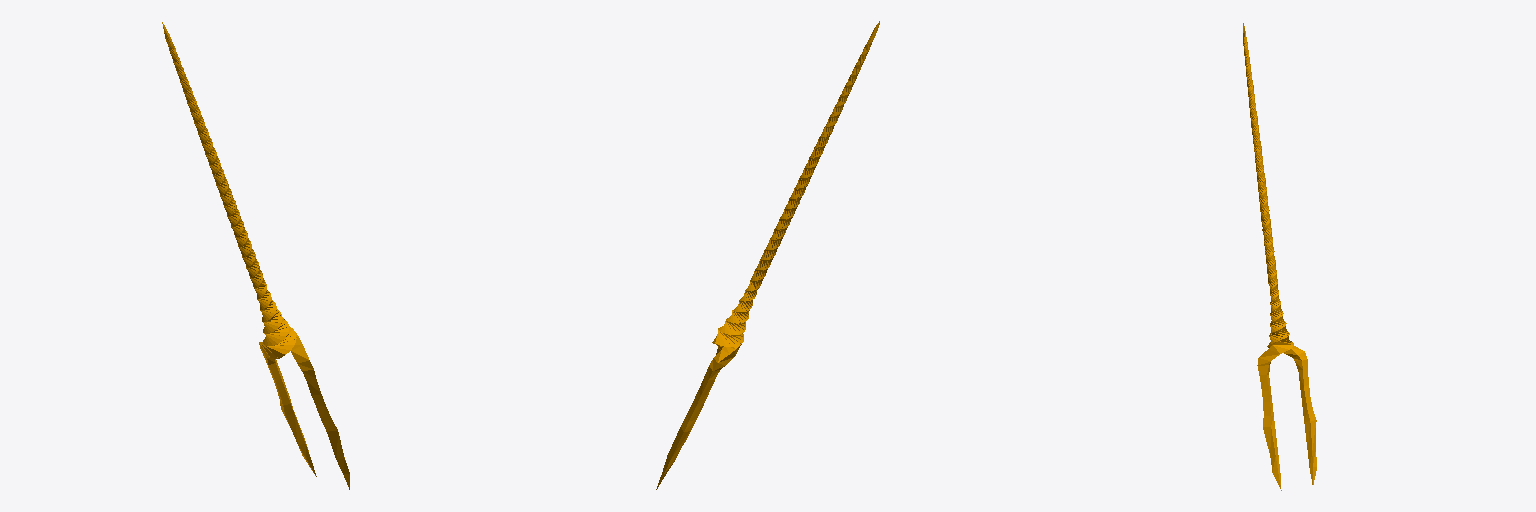
robot.urdf — lance_longinus:
<robot name="lance_longinus">
  <link name="base_link">
    <visual>
      <geometry>
      <!--
        <mesh filename="package://longinuslance_description/models/longinus_long.stl" scale="0.02 0.02 0.024" />
       -->
        <mesh filename="package://longinuslance_description/models/longinus_short.stl" scale="0.02 0.02 0.024" />      </geometry>
      <origin rpy="0 -0.4 0.3" xyz="0 -0.01 0.25"/>
    </visual>
  </link>
</robot>

--- What the picture shows (computed from the rendered views, not written in the file) ---
Views: 3 orthographic renders of the robot side by side, from view 1: azimuth 30°, elevation 25°; view 2: azimuth 150°, elevation 25°; view 3: azimuth 270°, elevation 25°.
Model lance_longinus with 1 links and 0 joints (none), rooted at base_link, posed all joints at 0.
Visible links, largest first — view 1: base_link; view 2: base_link; view 3: base_link.
Boxes of the visible links, x1=… form: base_link: x1=162, y1=22, x2=349, y2=489; base_link: x1=656, y1=21, x2=879, y2=489; base_link: x1=1243, y1=23, x2=1316, y2=490.
Size in the robot's own frame: 1.84 by 0.7623 by 4.43 metres.
Meshes: 1 distinct files referenced, 1 mesh visuals loaded (1 binary STL).
